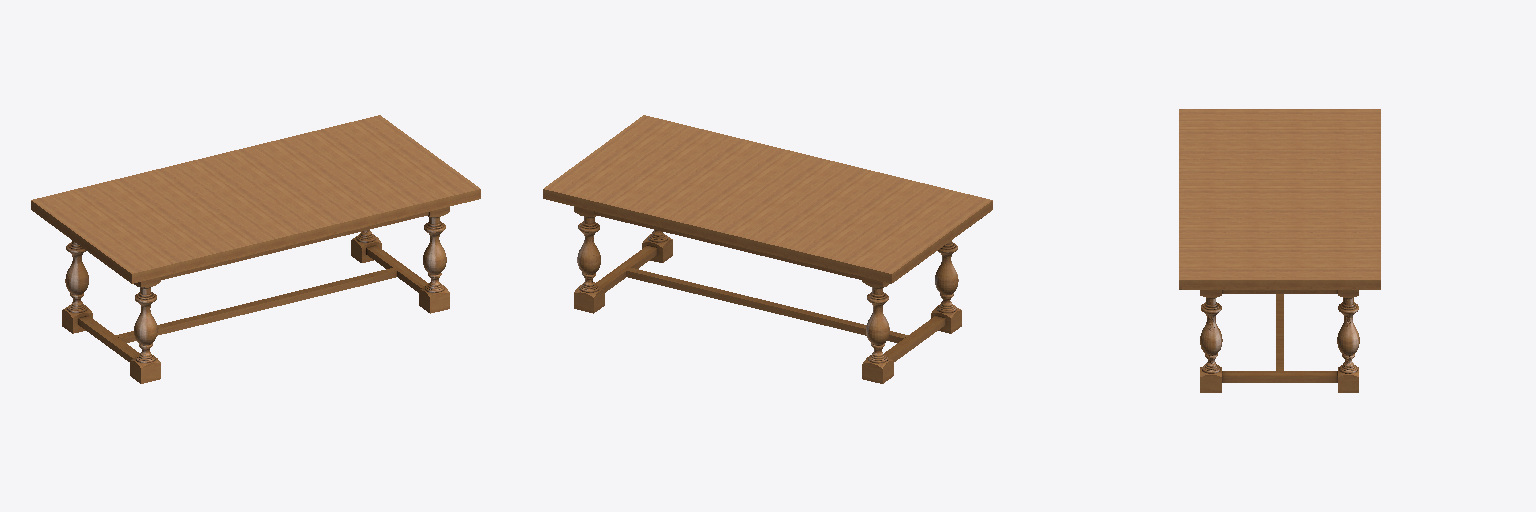
The picture shows the model from 3 angles: view 1: azimuth 30°, elevation 25°; view 2: azimuth 150°, elevation 25°; view 3: azimuth 270°, elevation 25°; orthographic projection.
Parts seen in each view (by area): view 1: solid; view 2: solid; view 3: solid.
Boxes of the visible parts, x1=… form: solid: x1=31, y1=115, x2=480, y2=383; solid: x1=543, y1=115, x2=992, y2=383; solid: x1=1179, y1=109, x2=1380, y2=392.
Bounding box in the file's own units: 2.18 × 0.7327 × 1.09.
Materials: 1 (1 with a texture image).